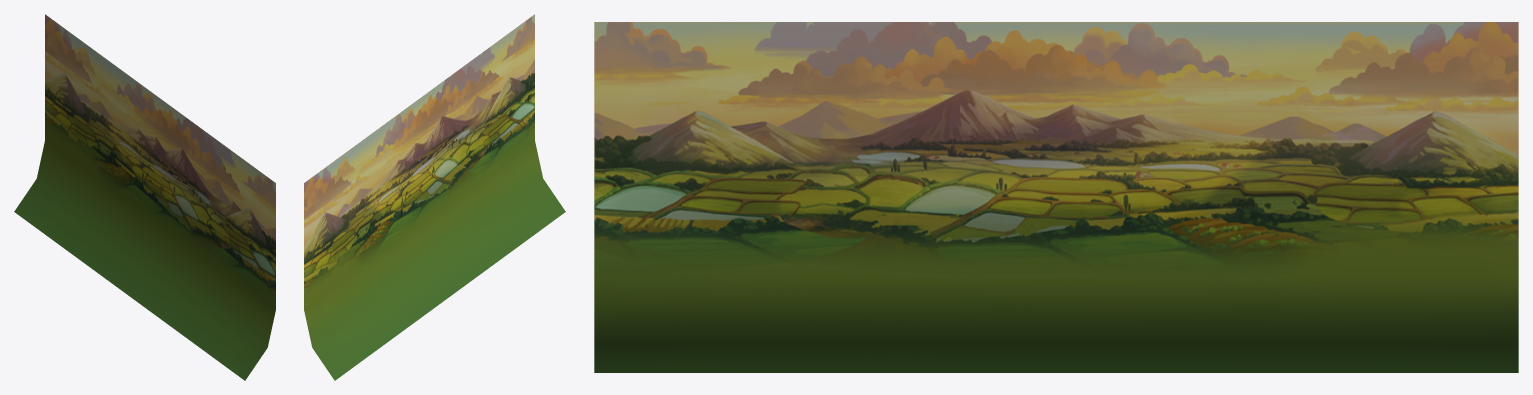
Rendered from scenes_village_bk01.FBX.
3 views of the same model, side by side, from view 1: azimuth 30°, elevation 25°; view 2: azimuth 150°, elevation 25°; view 3: azimuth 270°, elevation 25° (orthographic). The views are drawn at different scales.
Parts seen in each view (by area): view 1: scenes_village_bk01; view 2: scenes_village_bk01; view 3: scenes_village_bk01.
Part boxes in pixels (<box>): scenes_village_bk01: <box>14,14,275,380</box>; scenes_village_bk01: <box>304,14,565,380</box>; scenes_village_bk01: <box>594,22,1518,372</box>.
Bounding box in the file's own units: 76.82 × 455 × 1000.
